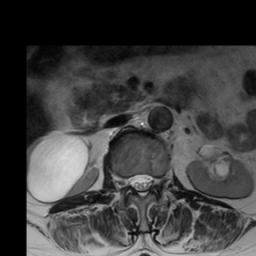CCS_normal: (137, 168, 144, 200)
LFS_normal: (152, 170, 159, 193)
LLS_normal: (145, 170, 152, 194)
RFS_normal: (121, 170, 129, 194)
RLS_normal: (129, 170, 137, 194)
